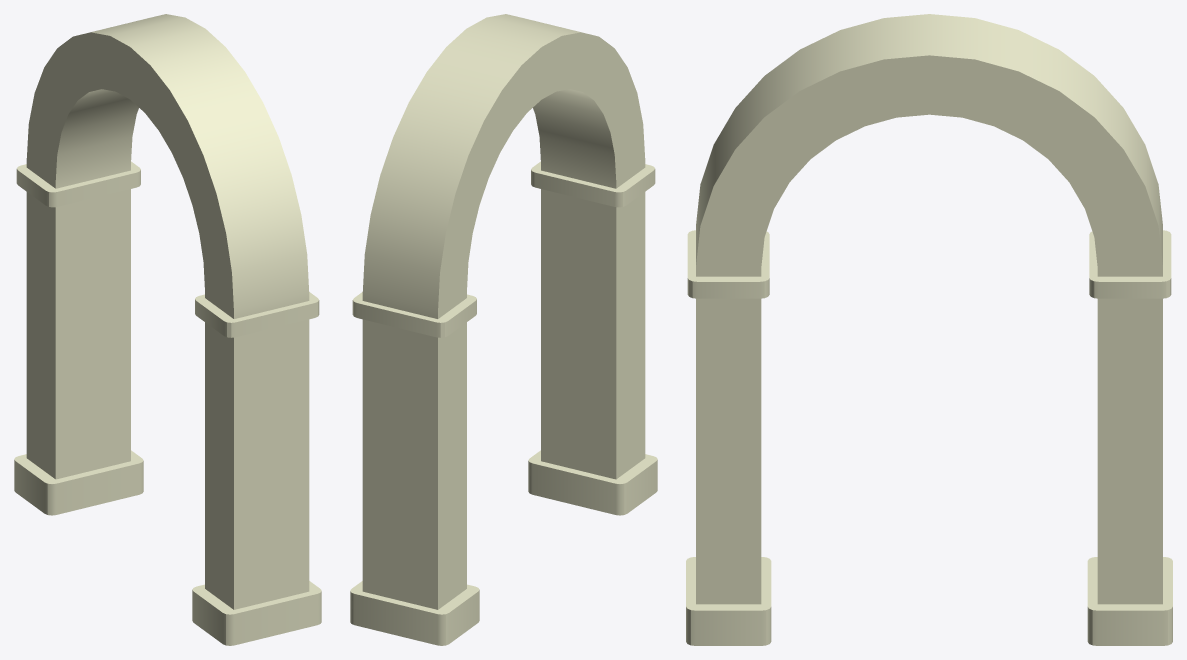
The model's file is geçit.fbx.
3 renders of one model, left to right at view 1: azimuth 30°, elevation 25°; view 2: azimuth 150°, elevation 25°; view 3: azimuth 270°, elevation 25°, orthographic. The views are drawn at different scales.
Parts seen in each view (by area): view 1: geçit; view 2: geçit; view 3: geçit.
Part boxes in pixels (x1,y1,x2,y2): geçit: [14, 14, 321, 645]; geçit: [350, 14, 657, 645]; geçit: [686, 14, 1172, 645].
Size of the model in its own units: 1.27 by 6.42 by 4.85.
